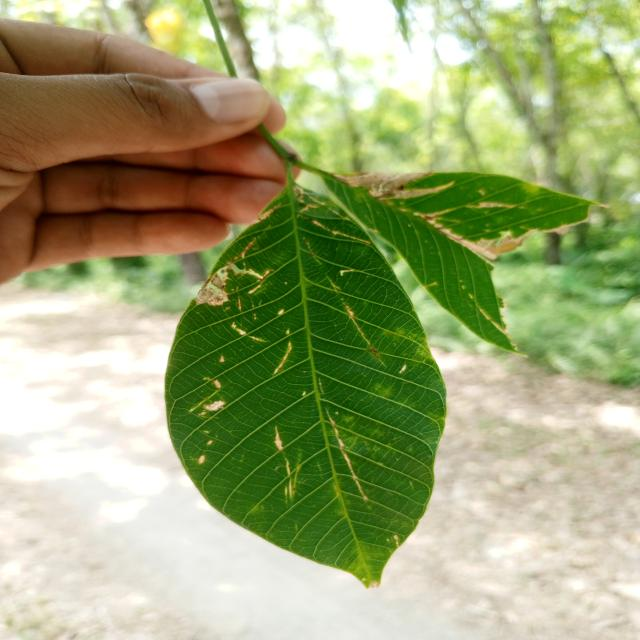Leaf-Blight: (329, 168, 454, 200), (195, 268, 229, 306)
